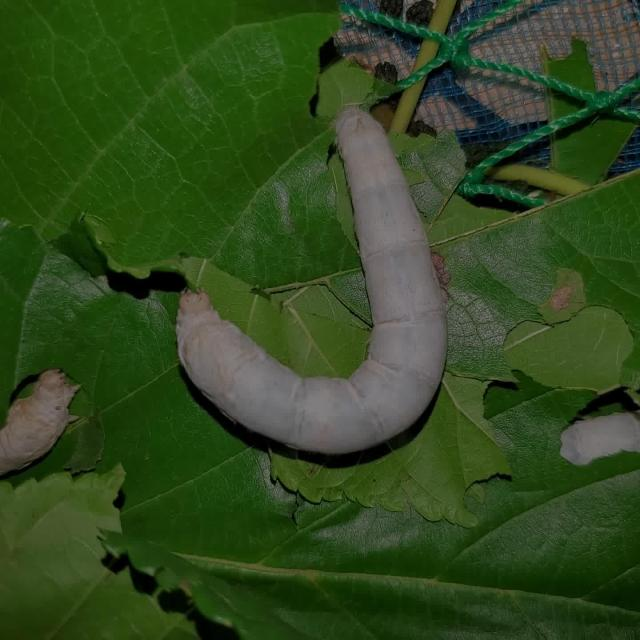Healthy: (164, 99, 474, 467)
